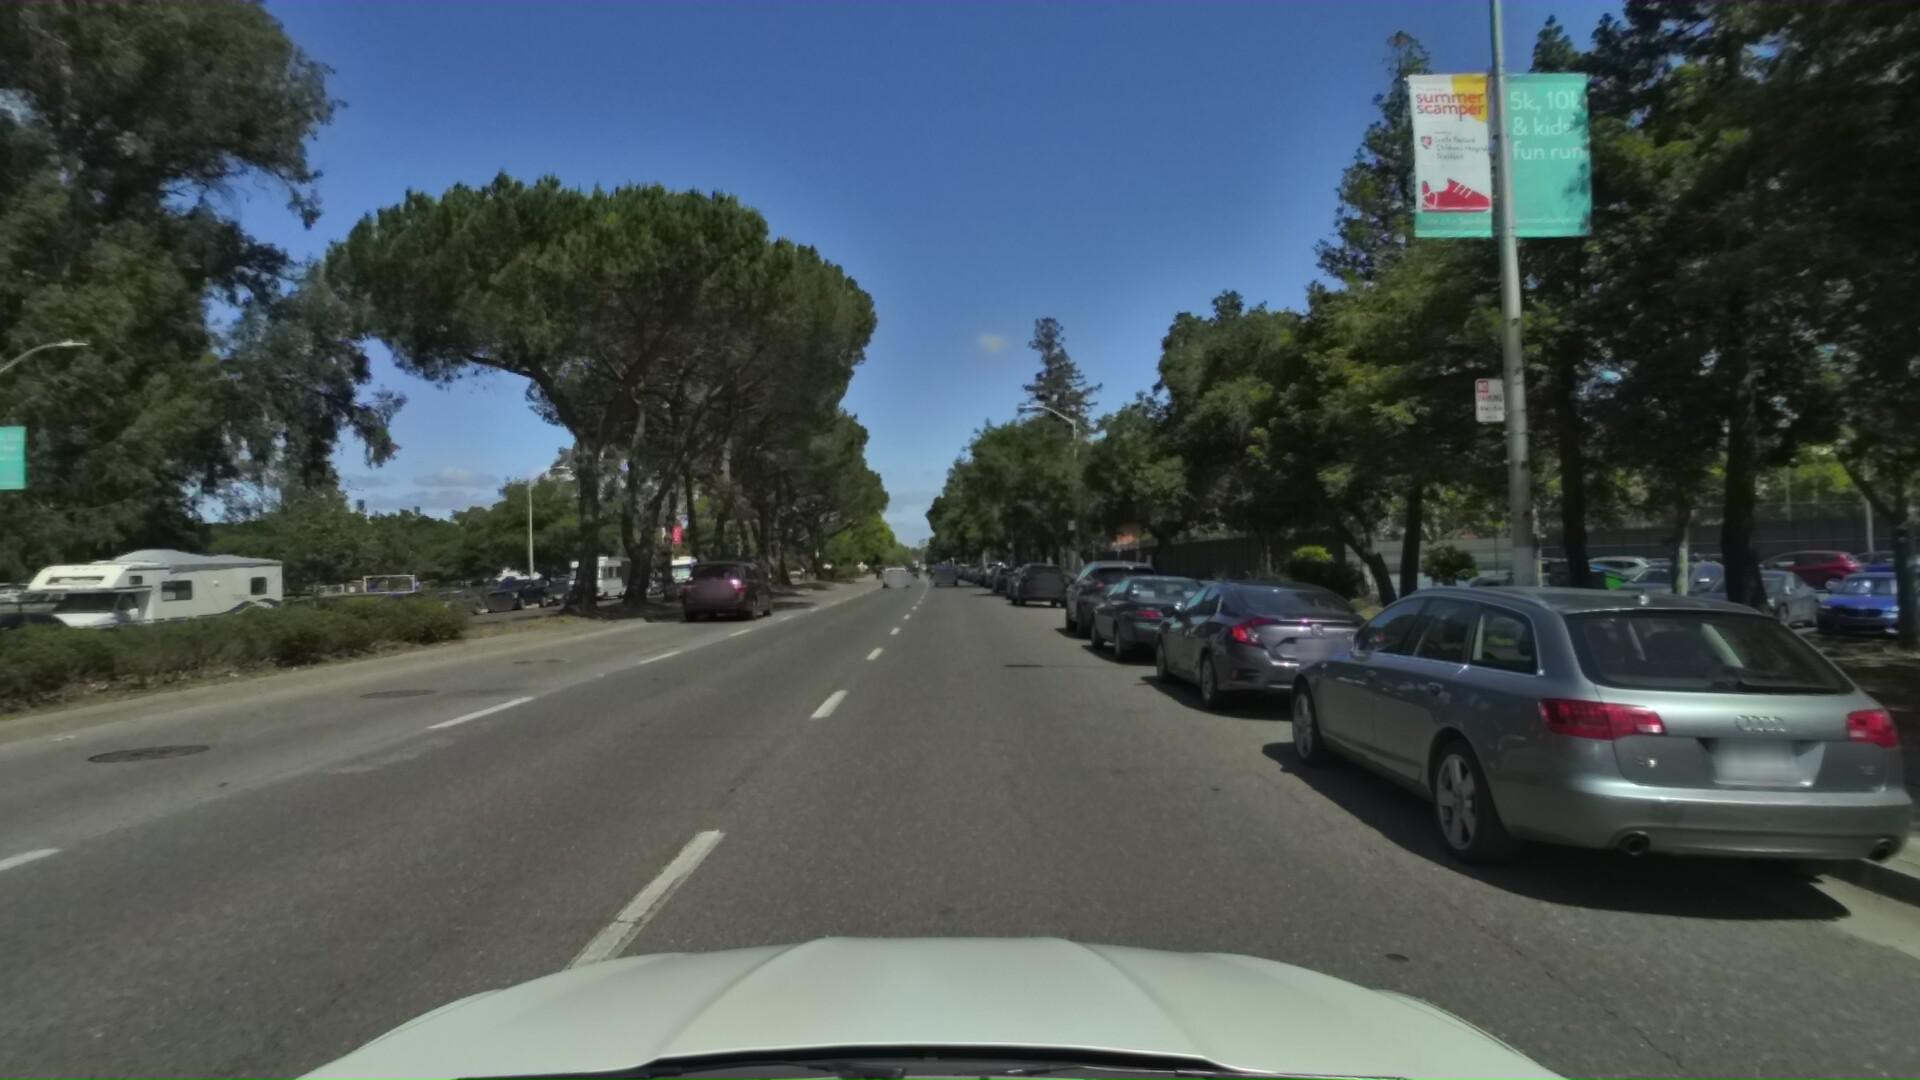car: (1262, 563, 1920, 1004), (1145, 560, 1429, 736), (1080, 562, 1251, 673), (1060, 549, 1175, 640), (676, 553, 777, 629), (0, 600, 76, 678), (475, 568, 553, 607), (1007, 553, 1067, 603), (411, 580, 484, 616), (1004, 556, 1054, 595), (533, 574, 585, 603), (671, 568, 716, 597), (990, 559, 1026, 587), (977, 550, 1009, 580), (880, 560, 909, 587), (982, 555, 1011, 582), (931, 562, 957, 589)
other_vehicle: (0, 539, 287, 661), (560, 546, 640, 597)
